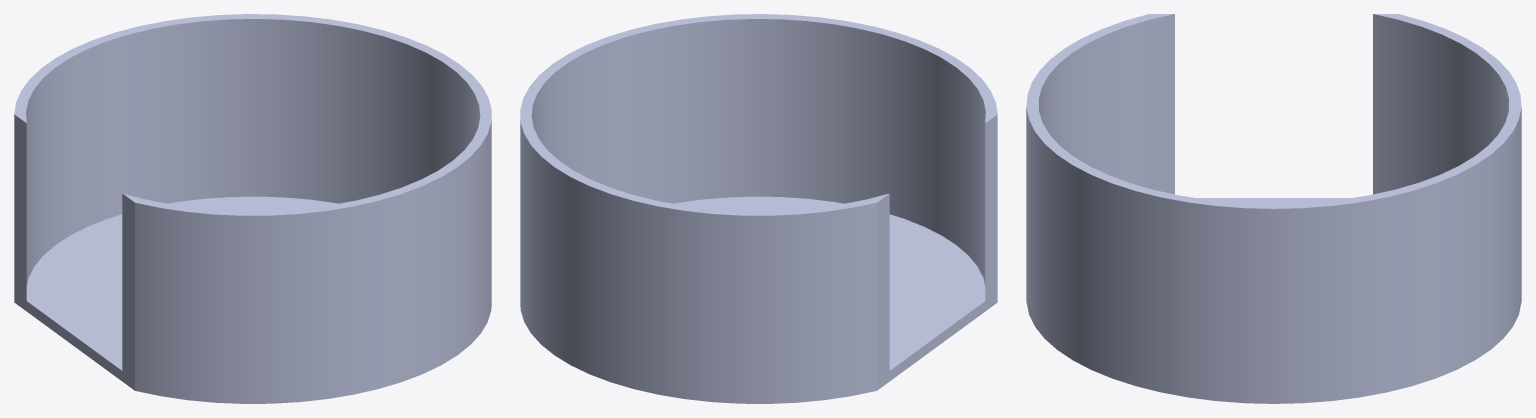
File: Ring1.fbx
The picture shows the model from 3 angles, left to right: view 1: azimuth 30°, elevation 25°; view 2: azimuth 150°, elevation 25°; view 3: azimuth 270°, elevation 25°; orthographic projection. The views are drawn at different scales.
Visible parts, largest first — view 1: Ring1; view 2: Ring1; view 3: Ring1.
Boxes of the visible parts, x1,y1,x2,y2 form: Ring1: (14, 14, 491, 403); Ring1: (520, 14, 997, 403); Ring1: (1026, 14, 1521, 403).
Bounding box in the file's own units: 19.09 × 8.91 × 20.49.
